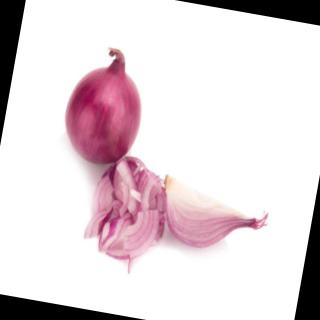Bawang Merah: (54, 39, 158, 174)
